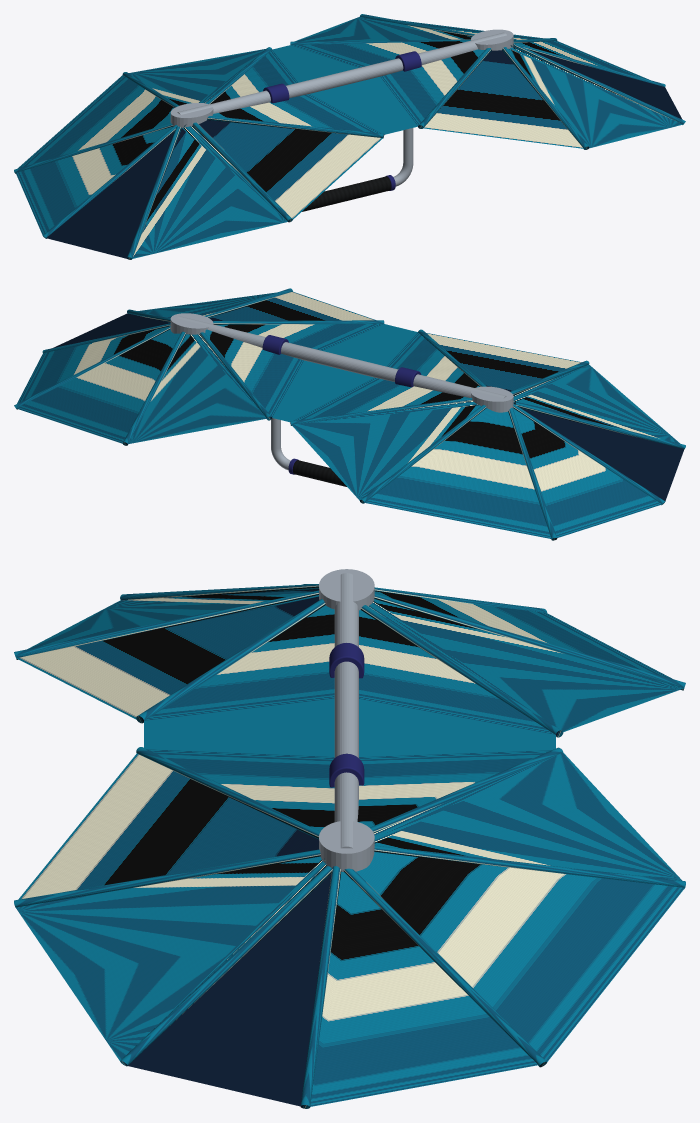
File: 滑翔伞.fbx
The picture shows the model from 3 angles, top to bottom: view 1: azimuth 30°, elevation 25°; view 2: azimuth 150°, elevation 25°; view 3: azimuth 270°, elevation 25°; orthographic projection. The views are drawn at different scales.
Visible parts, largest first — view 1: 柱体.001, 杆子, 柱体, 抓手_防滑握持段, 抓手_U形金属框; view 2: 柱体.001, 杆子, 柱体, 抓手_防滑握持段, 抓手_U形金属框; view 3: 柱体.001, 杆子, 柱体, 抓手_连接套.
Boxes of the visible parts, x1,y1,x2,y2 form: 柱体.001: (14, 14, 685, 259); 杆子: (177, 32, 506, 114); 柱体: (170, 29, 513, 127); 抓手_防滑握持段: (302, 176, 391, 211); 抓手_U形金属框: (393, 128, 413, 186); 柱体.001: (14, 288, 685, 540); 杆子: (177, 316, 506, 398); 柱体: (170, 313, 513, 412); 抓手_防滑握持段: (292, 460, 346, 486); 抓手_U形金属框: (271, 418, 290, 470); 柱体.001: (14, 584, 685, 1108); 杆子: (334, 573, 358, 848); 柱体: (319, 569, 374, 871); 抓手_连接套: (329, 643, 364, 678).
Size of the model in its own units: 254 by 51.4 by 138.
4 materials, 2 textured.
